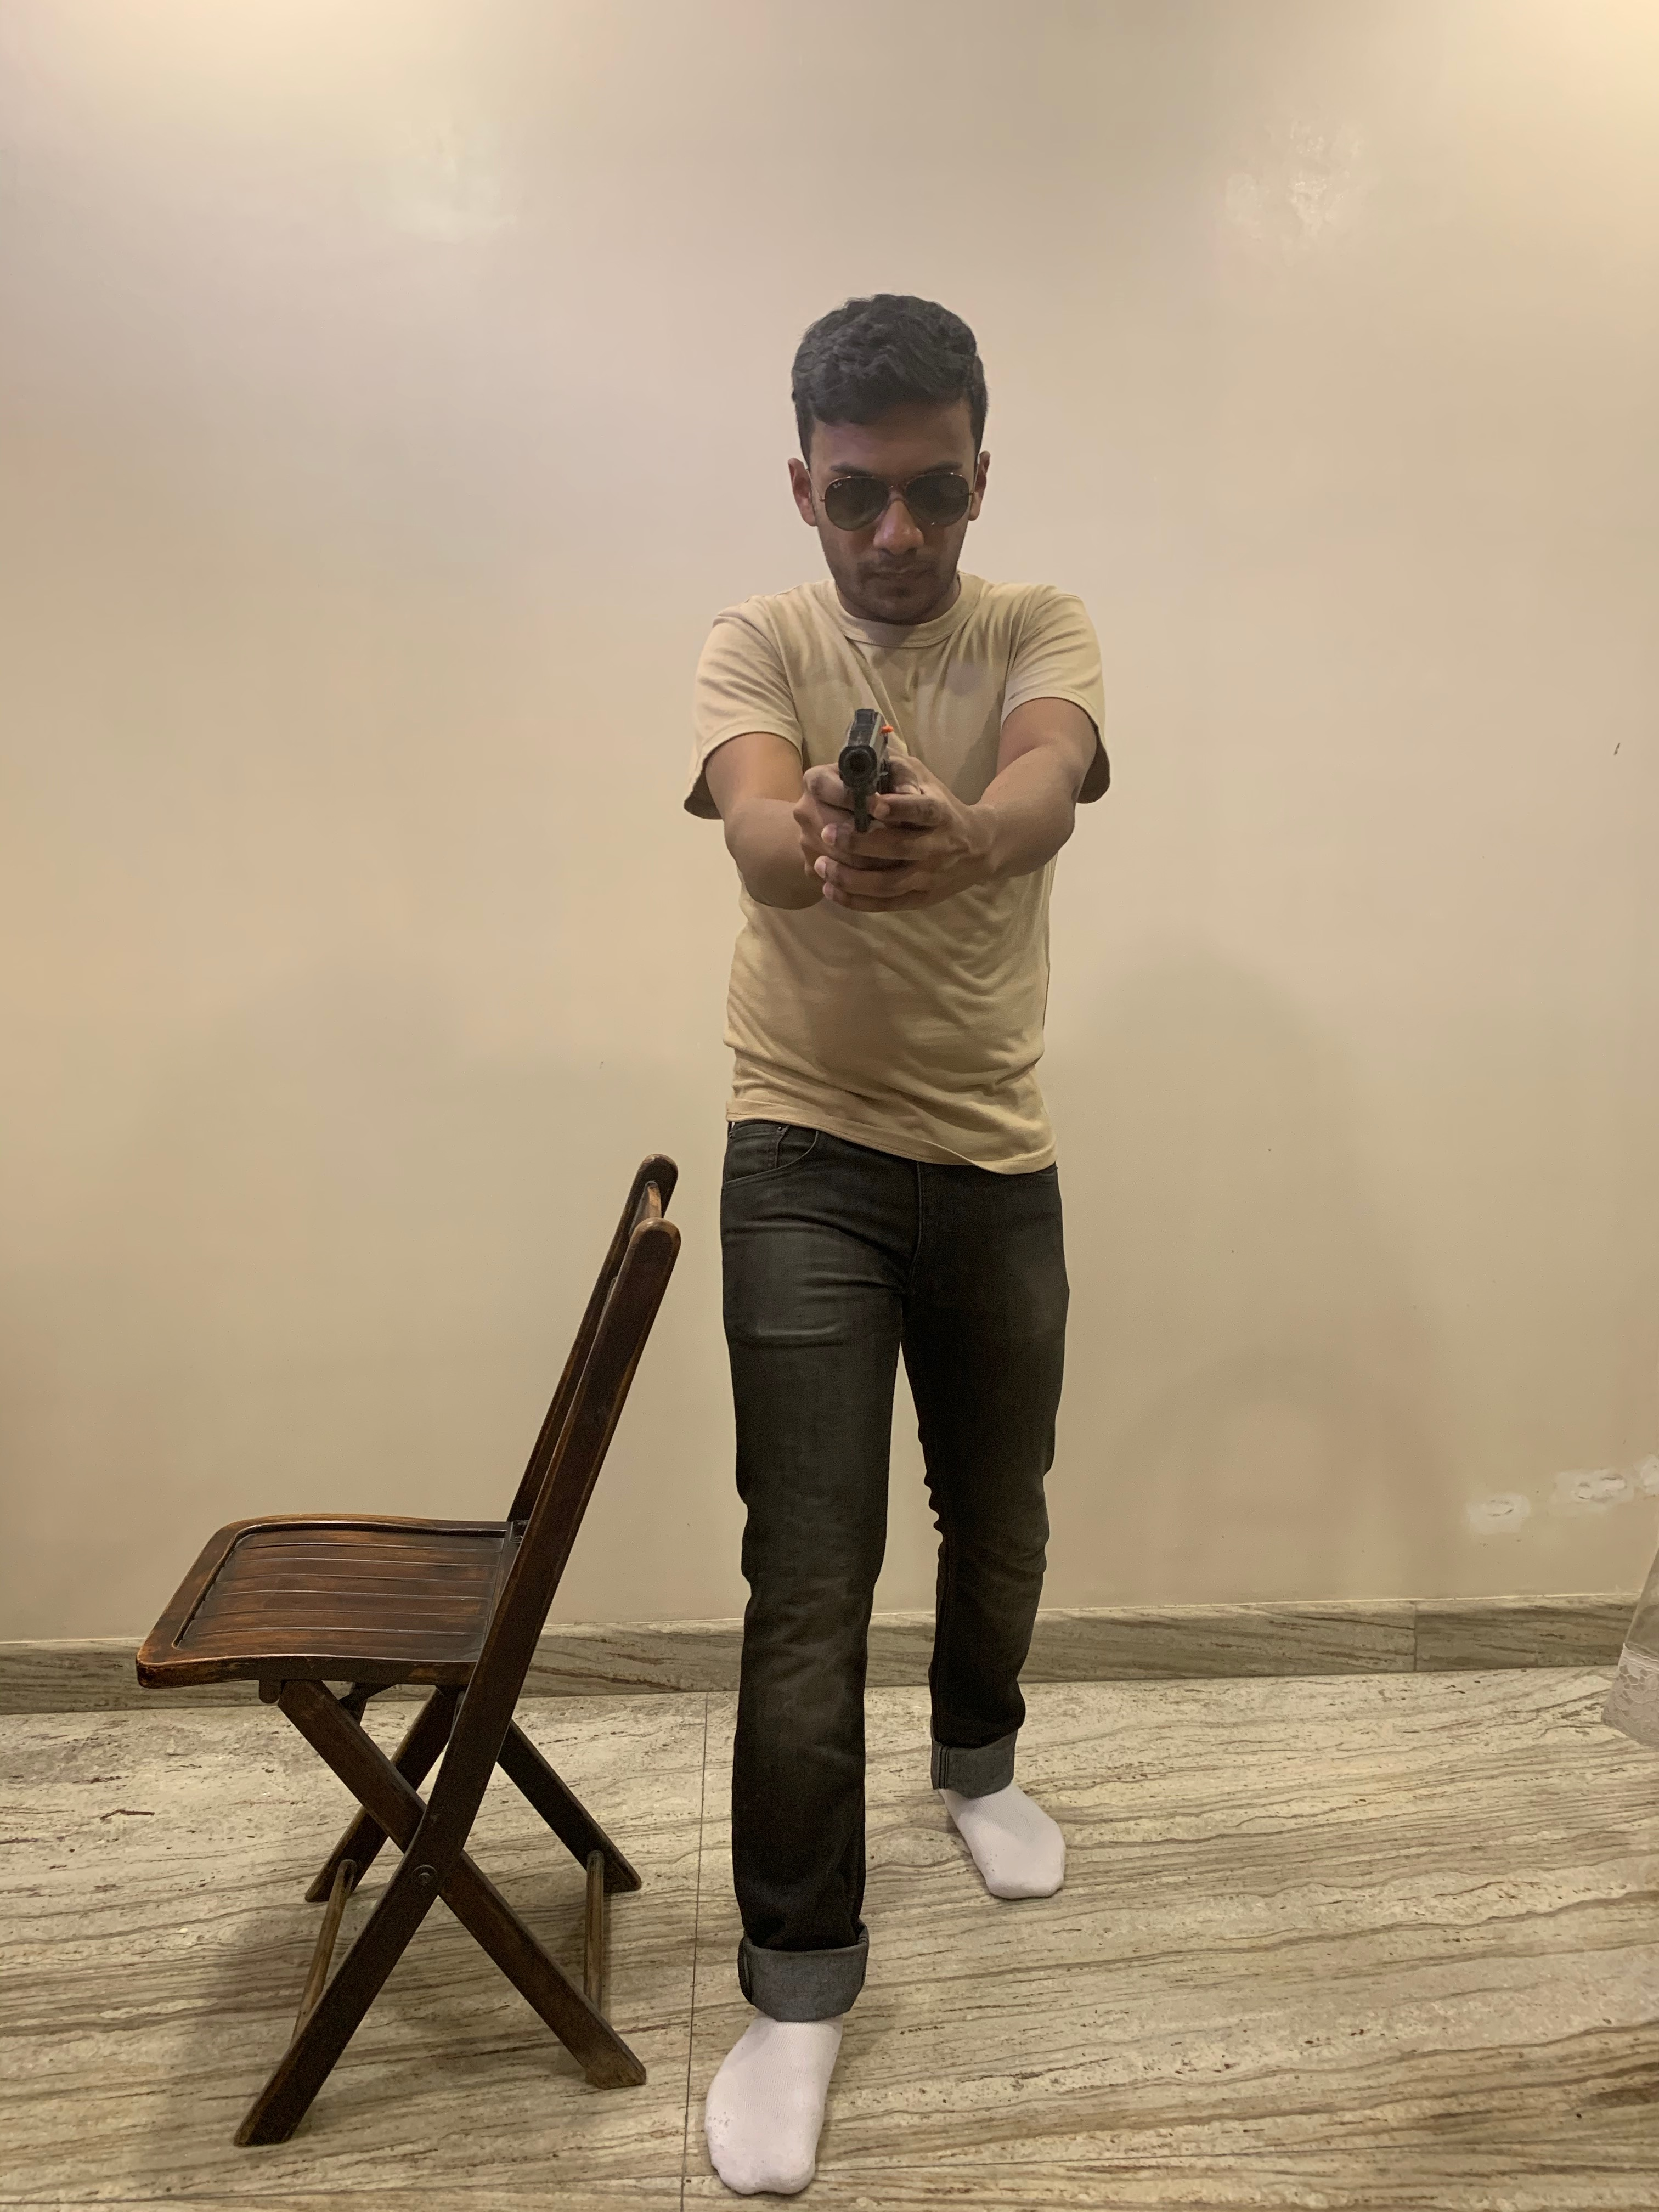gun: (833, 691, 890, 855)
